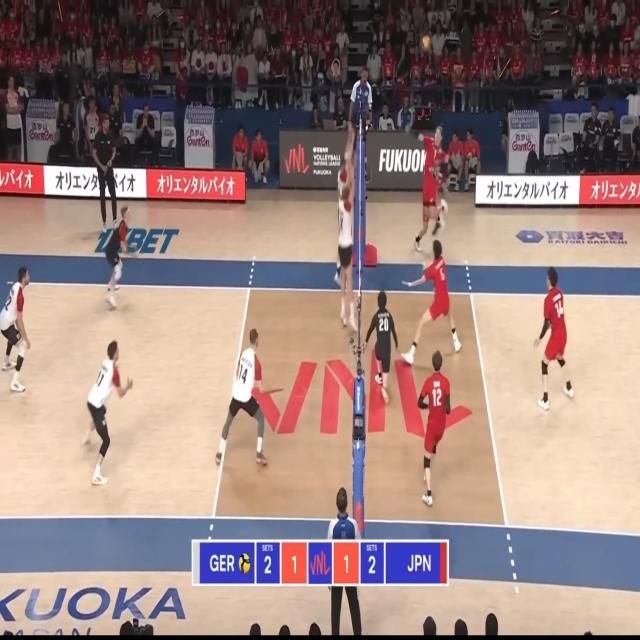ball: (422, 35, 430, 52)
